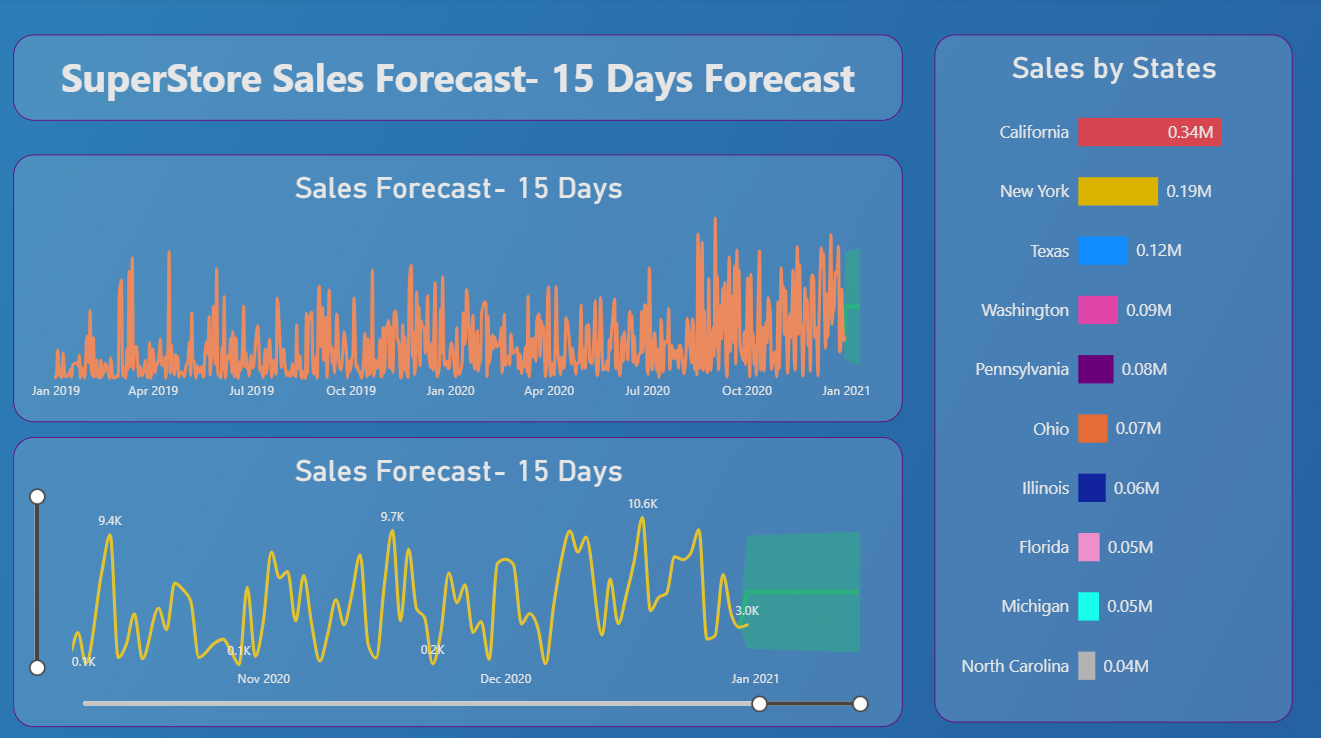

Layout of this report page (visuals, bound fields, positions):
{"tool":"powerbi","page":{"name":"Forecast","canvas":[1280,720],"ordinal":1},"visuals":[{"type":"lineChart","title":"Sales Forecast- 15 Days","fields":{"Category":["SuperStore_Sales_Dataset.Order Date"],"Y":["Sum(SuperStore_Sales_Dataset.Sales)"]},"box":[15.7,151.4,858.6,258.6],"z":0},{"type":"lineChart","title":"Sales Forecast- 15 Days","fields":{"Category":["SuperStore_Sales_Dataset.Order Date"],"Y":["Sum(SuperStore_Sales_Dataset.Sales)"]},"box":[15.7,424.3,858.6,280],"z":1000},{"type":"textbox","box":[15.7,35.7,858.6,82.9],"z":2000},{"type":"clusteredBarChart","title":"Sales by States","fields":{"Category":["SuperStore_Sales_Dataset.State"],"Y":["Sum(SuperStore_Sales_Dataset.Sales)"]},"box":[904.3,35.7,345.7,664.3],"z":3000}]}

Visuals, with their boxes in screenshot pixels (x1, y1, x2, y2), scaled from the page's 1280x720 canvas onto the 1321x738 screenshot:
"Sales Forecast- 15 Days" lineChart: locate(16, 155, 902, 420)
"Sales Forecast- 15 Days" lineChart: locate(16, 435, 902, 722)
textbox: locate(16, 37, 902, 122)
"Sales by States" clusteredBarChart: locate(933, 37, 1290, 717)
